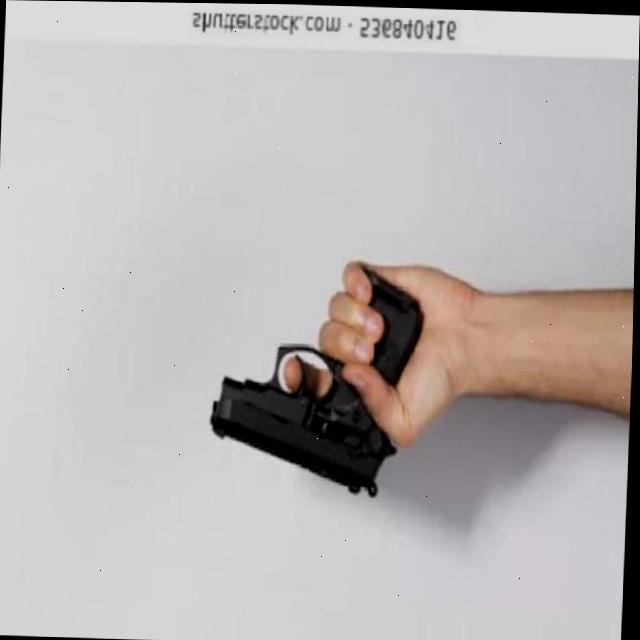gun: (199, 276, 434, 485)
